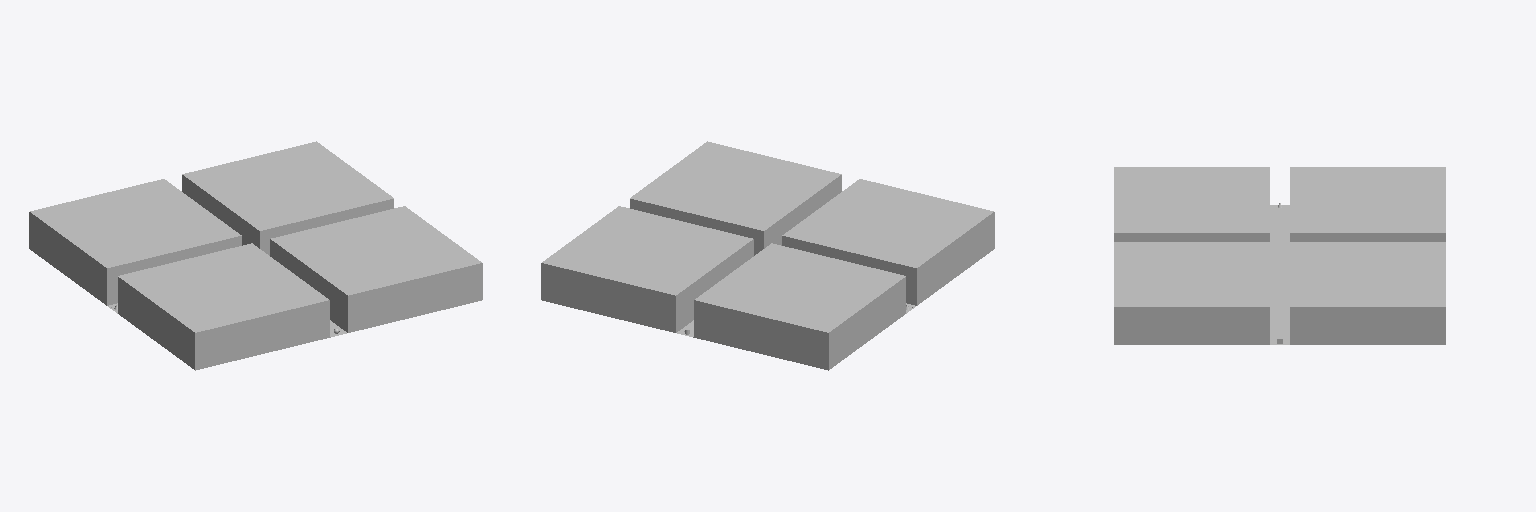
The model's file is floattest.obj.
The picture shows the model from 3 angles: view 1: azimuth 30°, elevation 25°; view 2: azimuth 150°, elevation 25°; view 3: azimuth 270°, elevation 25°; orthographic projection.
Parts seen in each view (by area): view 1: floattest; view 2: floattest; view 3: floattest.
Part boxes in pixels (left/top/right/bottom): floattest: left=29, top=141, right=482, bottom=370; floattest: left=541, top=141, right=994, bottom=370; floattest: left=1114, top=167, right=1445, bottom=344.
Size of the model in its own units: 32768 by 4096 by 32768.